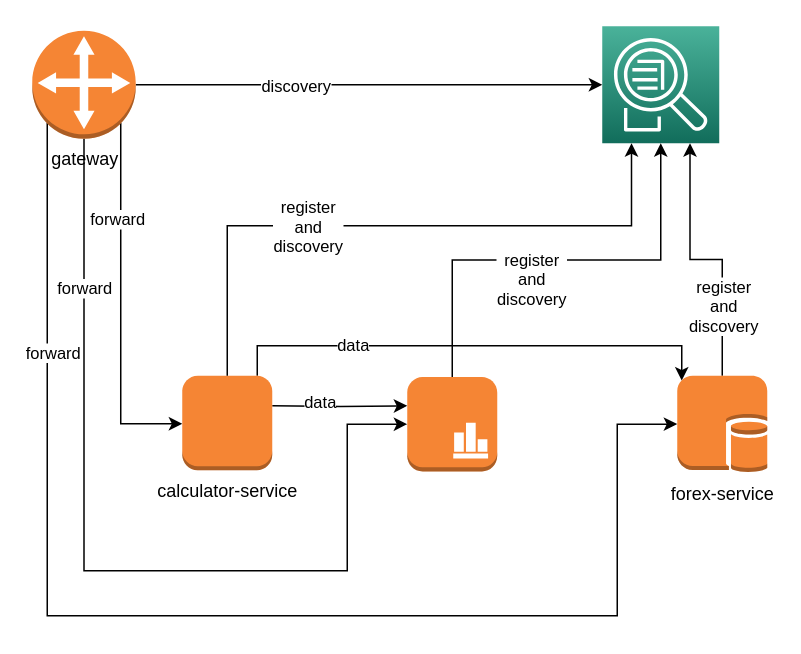
Some shapes in this 801 by 654 pixel diagram are drawn without their labels. Each missing label, with the centre of its shape:
"discovery-service" belongs at (x=660, y=84).
"market-service" belongs at (x=451, y=423).
